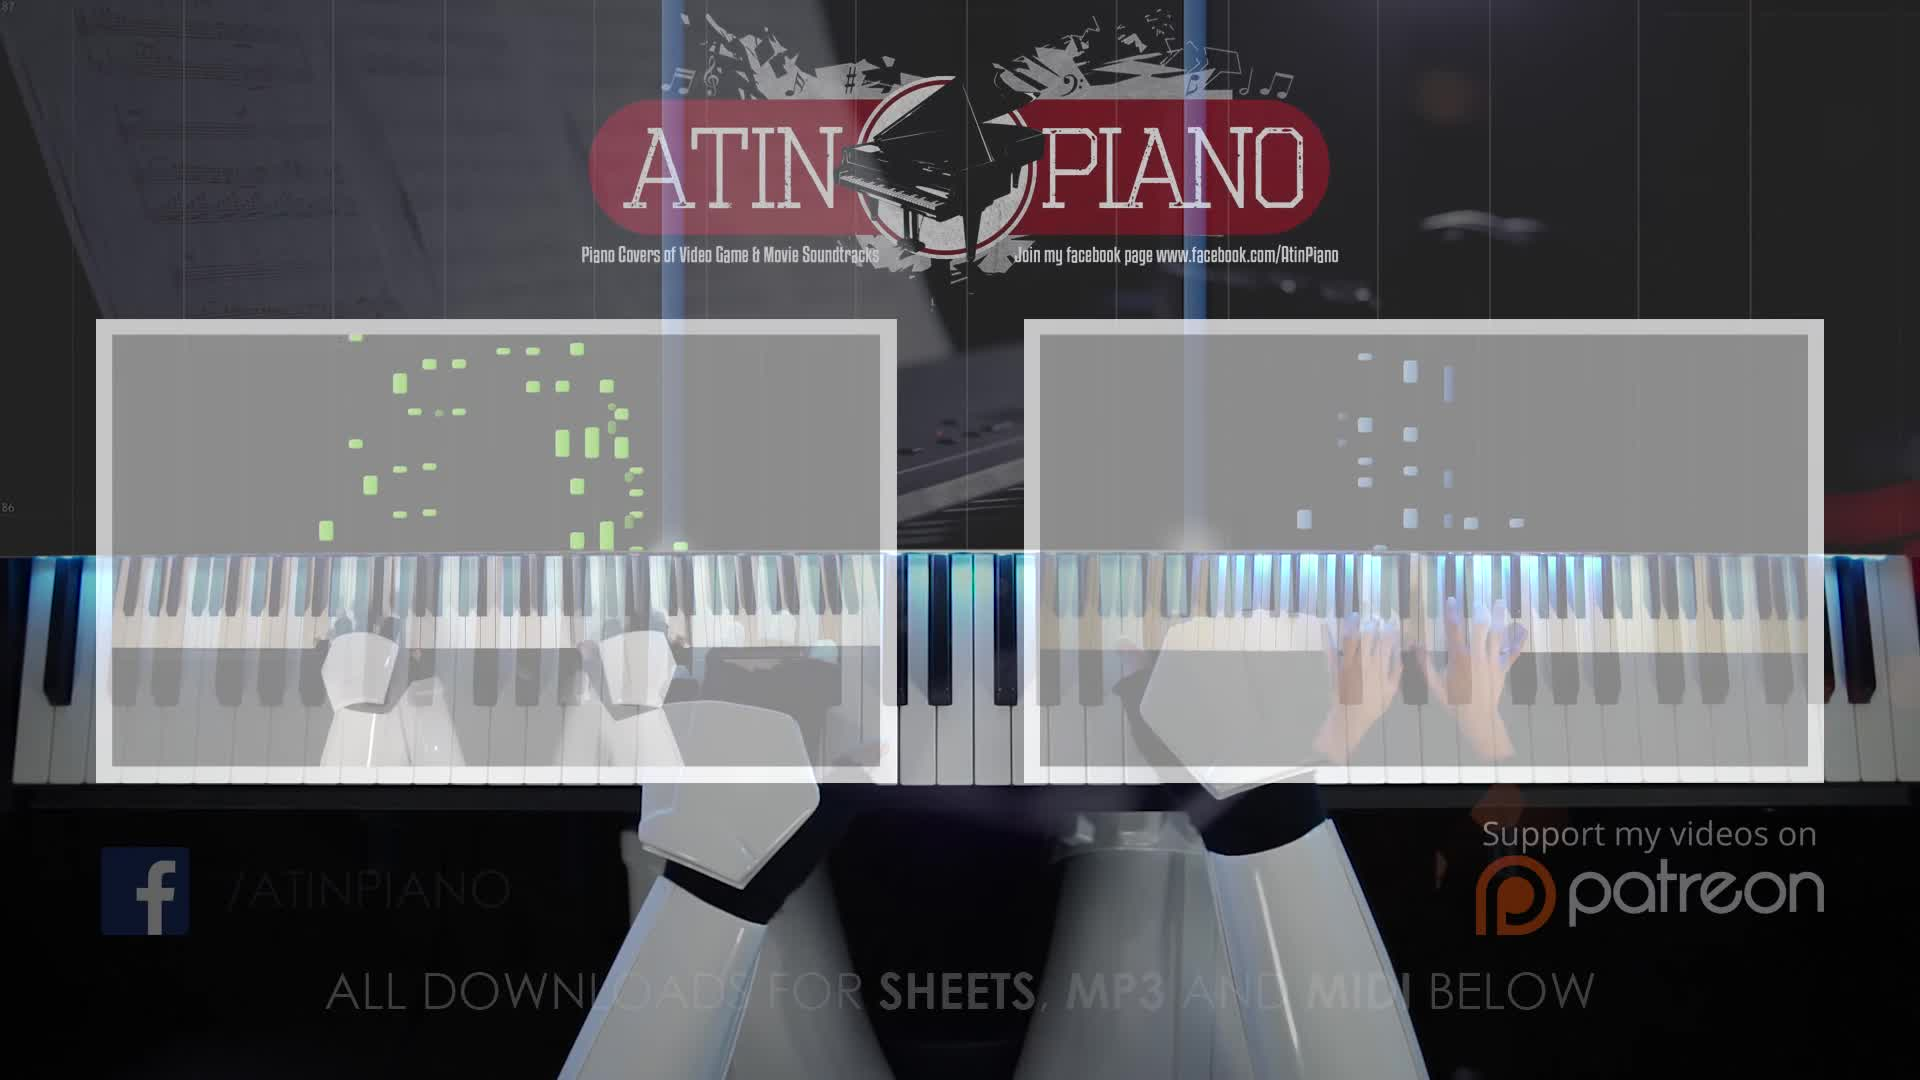left: (638, 578, 887, 905), (313, 591, 423, 721), (1323, 609, 1411, 721)
right: (1113, 530, 1344, 829), (1414, 588, 1528, 709), (578, 601, 686, 721)
